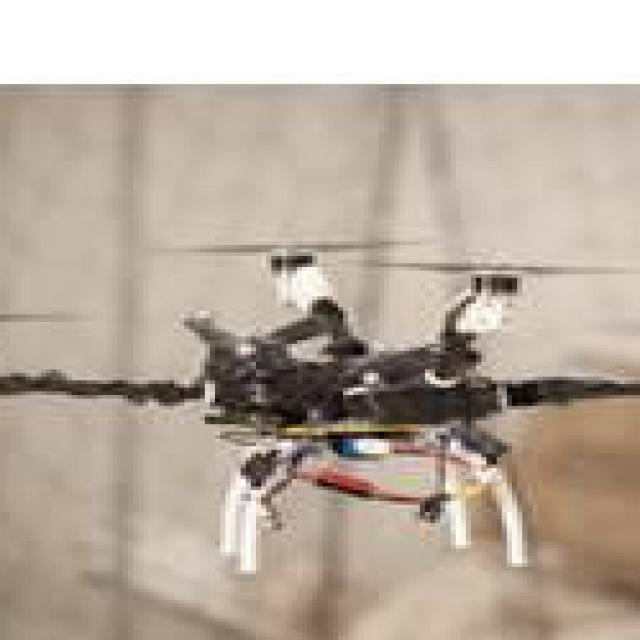drone: (0, 205, 640, 570)
